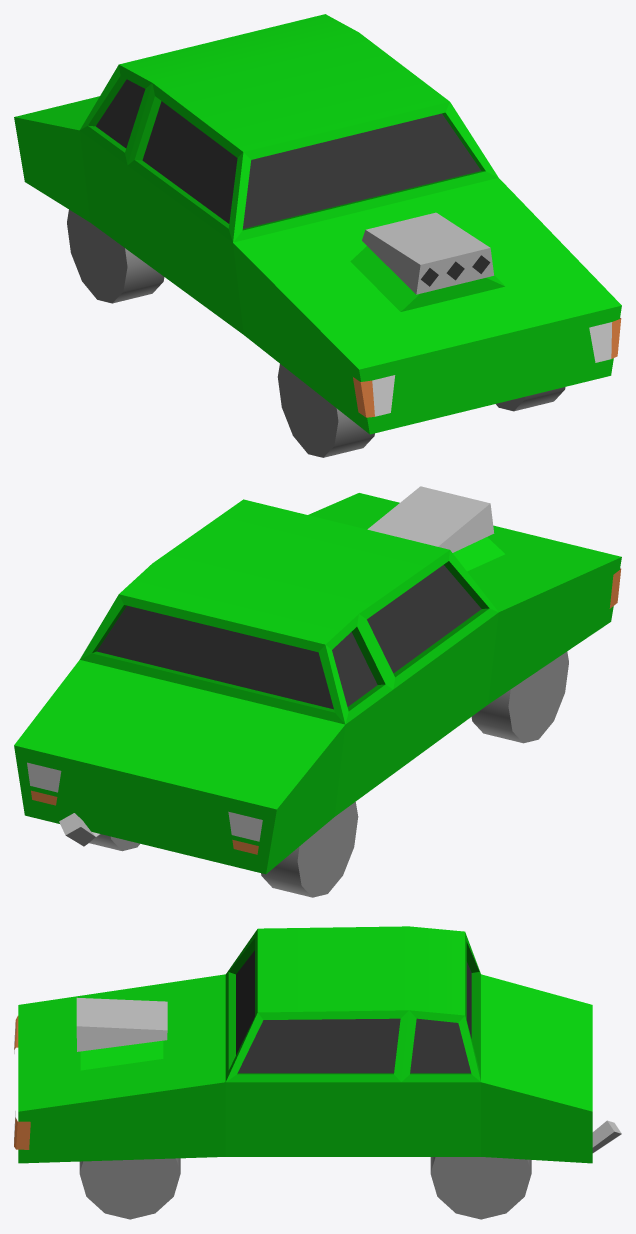
File: musclecar_02.fbx
The picture shows the model from 3 angles, top to bottom: view 1: azimuth 30°, elevation 25°; view 2: azimuth 150°, elevation 25°; view 3: azimuth 270°, elevation 25°; orthographic projection. The views are drawn at different scales.
Visible parts, largest first — view 1: musclecar_02; view 2: musclecar_02; view 3: musclecar_02.
Boxes of the visible parts, x1=… form: musclecar_02: x1=14, y1=14, x2=621, y2=457; musclecar_02: x1=14, y1=486, x2=621, y2=897; musclecar_02: x1=14, y1=926, x2=621, y2=1219.
Size of the model in its own units: 1.6 by 1.41 by 3.81.
